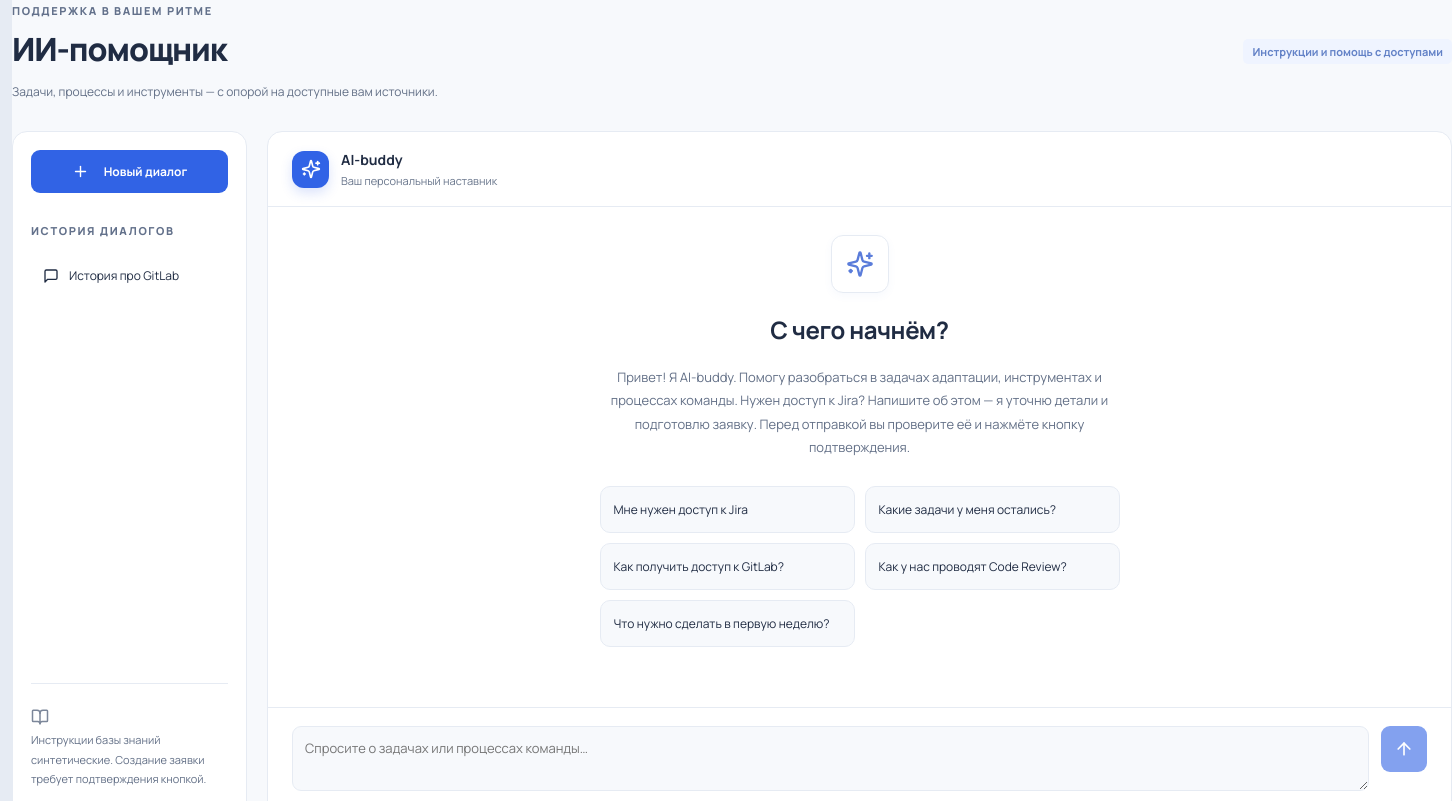
Scenario: chat error preserves text
(page scrolled)
Expected: the text "История про GitLab" is shown, [69, 267, 179, 284]
Type "Тестовый вопрос" into the text box named "Сообщение AI-buddy".
click(830, 759); type("Тестовый вопрос")  # box [292, 726, 1369, 791]
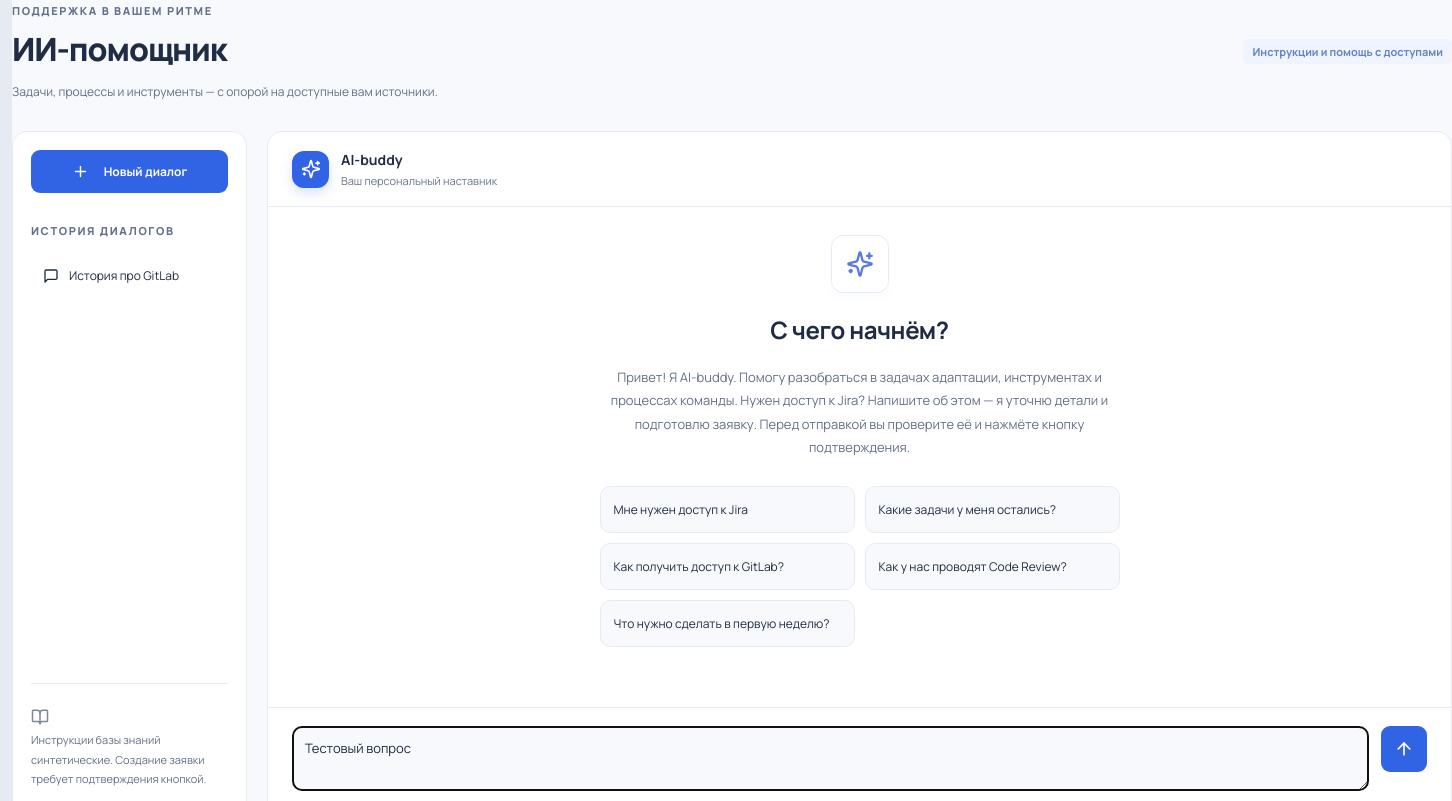
Click the button named "Отправить сообщение".
click(1404, 749)  # box [1381, 726, 1427, 772]
(page scrolled)
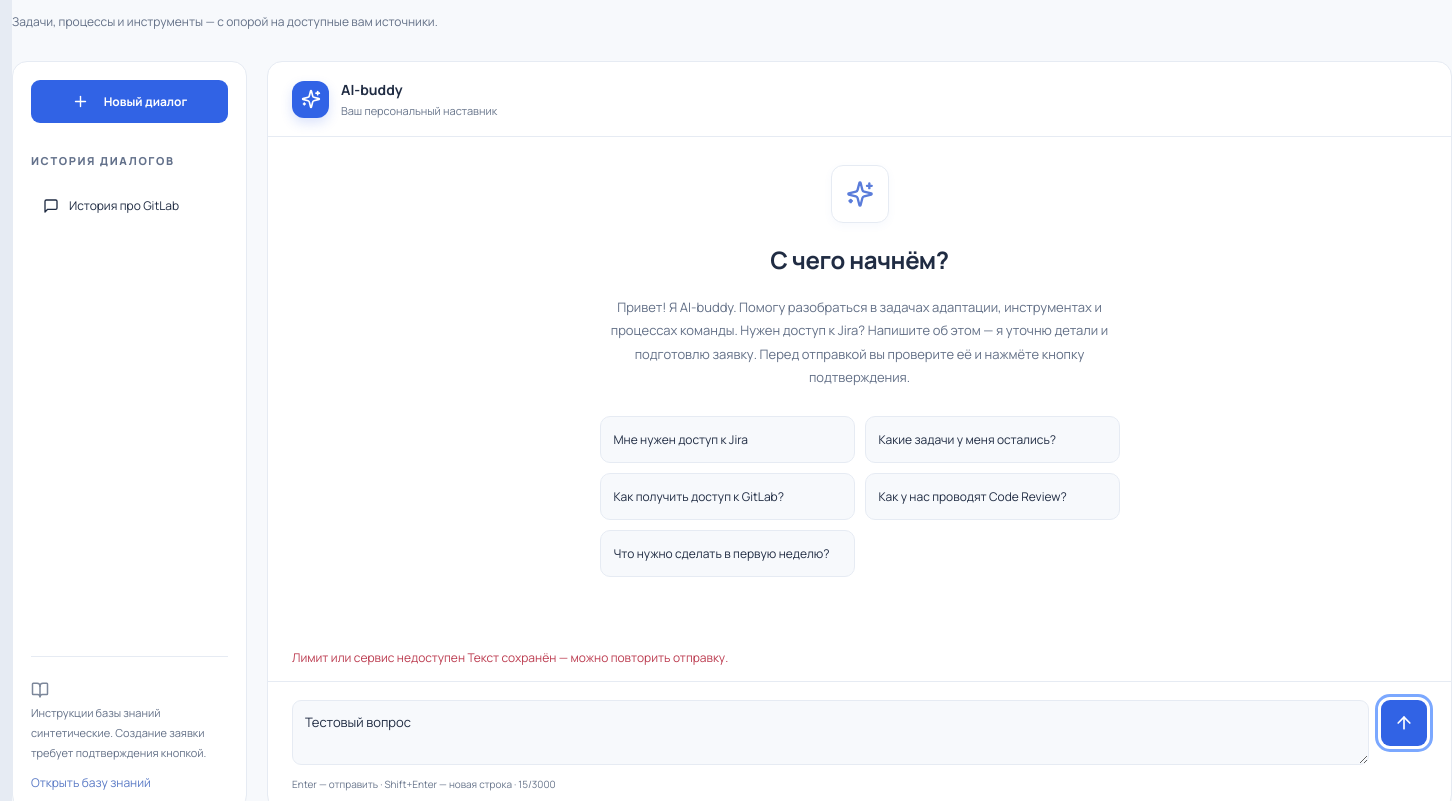
Expected: the message shows "Лимит или сервис недоступен", [292, 649, 465, 666]
